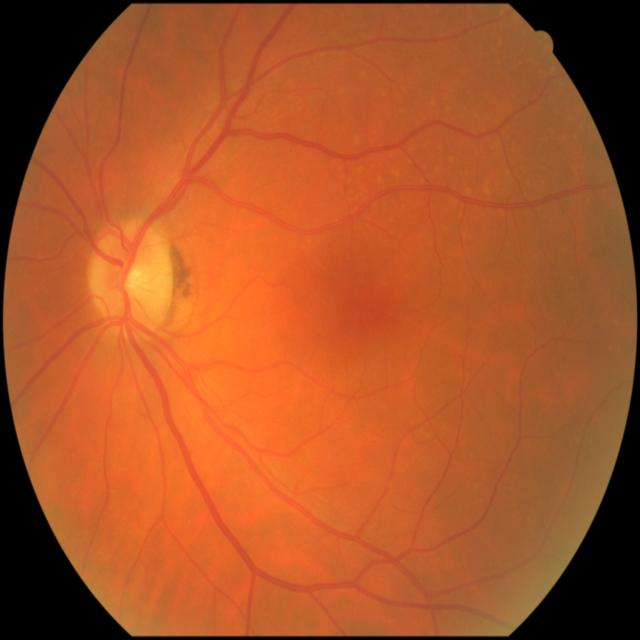OC: (127, 268, 144, 291)
OD: (89, 224, 174, 330)
